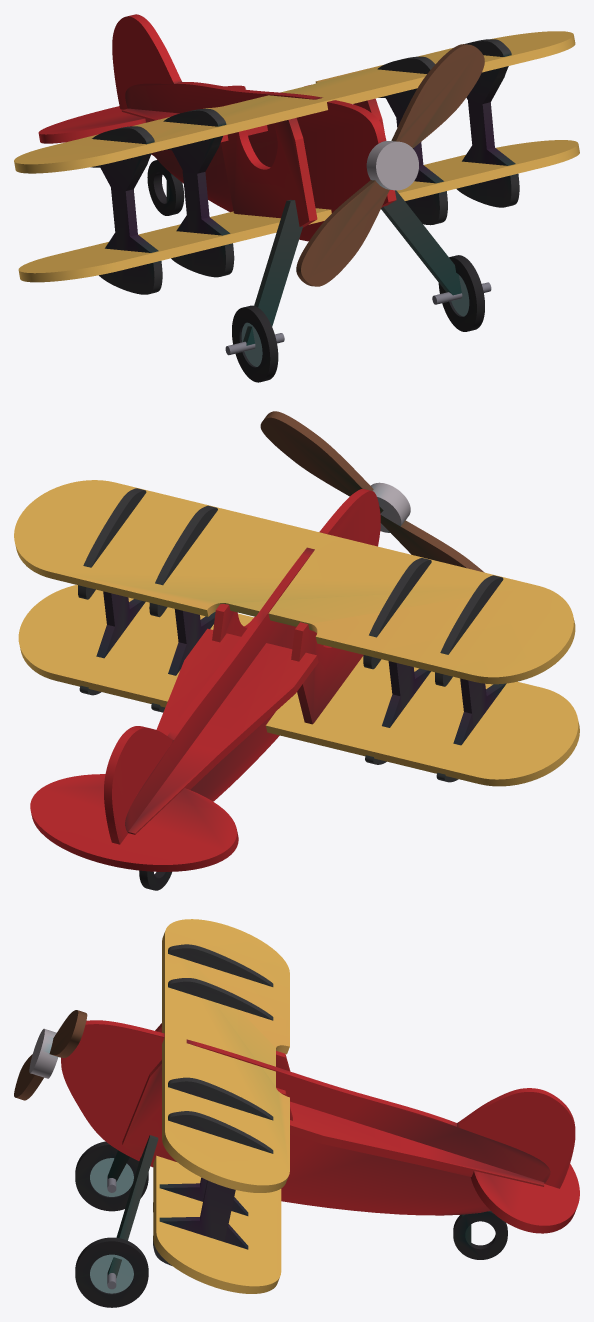
3 renders of one model, top to bottom at view 1: azimuth 30°, elevation 25°; view 2: azimuth 150°, elevation 25°; view 3: azimuth 270°, elevation 25°, orthographic. The views are drawn at different scales.
Parts seen in each view (by area): view 1: upper_panel, vertical_body, lower_panel, cockpit_side.001, interplane.003, interplane.002, blade.001, blade, interplane.001, tail_fin, gear_leg.001, interplane (+8 smaller); view 2: upper_panel, lower_panel, tailplane, horizontal_body, vertical_body, tail_fin, blade, cockpit_side.001, interplane.003, interplane.001, interplane.002, interplane (+3 smaller); view 3: vertical_body, upper_panel, lower_panel, tail_fin, horizontal_body, tailplane, interplane.001, tire, cockpit_side, interplane, tire.001, tail_wheel (+8 smaller).
Part boxes in pixels (x1=…): upper_panel: x1=14, y1=31, x2=575, y2=173; vertical_body: x1=125, y1=82, x2=386, y2=241; lower_panel: x1=18, y1=140, x2=579, y2=282; cockpit_side.001: x1=221, y1=104, x2=317, y2=227; interplane.003: x1=91, y1=126, x2=162, y2=294; interplane.002: x1=163, y1=108, x2=234, y2=277; blade.001: x1=296, y1=180, x2=389, y2=286; blade: x1=391, y1=44, x2=484, y2=148; interplane.001: x1=456, y1=39, x2=519, y2=207; tail_fin: x1=112, y1=14, x2=181, y2=155; gear_leg.001: x1=243, y1=199, x2=302, y2=345; interplane: x1=377, y1=56, x2=447, y2=225; upper_panel: x1=14, y1=480, x2=575, y2=684; lower_panel: x1=18, y1=585, x2=579, y2=786; tailplane: x1=30, y1=774, x2=238, y2=871; horizontal_body: x1=128, y1=628, x2=318, y2=834; vertical_body: x1=125, y1=489, x2=380, y2=832; tail_fin: x1=104, y1=726, x2=173, y2=844; blade: x1=260, y1=411, x2=383, y2=513; cockpit_side.001: x1=291, y1=622, x2=363, y2=724; interplane.003: x1=435, y1=575, x2=506, y2=782; interplane.001: x1=78, y1=488, x2=146, y2=695; interplane.002: x1=363, y1=558, x2=431, y2=764; interplane: x1=149, y1=505, x2=217, y2=712; vertical_body: x1=61, y1=1020, x2=550, y2=1215; upper_panel: x1=162, y1=919, x2=289, y2=1192; lower_panel: x1=153, y1=1155, x2=281, y2=1293; tail_fin: x1=457, y1=1088, x2=575, y2=1188; horizontal_body: x1=290, y1=1101, x2=544, y2=1186; tailplane: x1=470, y1=1164, x2=579, y2=1233; interplane.001: x1=153, y1=1111, x2=273, y2=1265; tire: x1=75, y1=1237, x2=148, y2=1307; cockpit_side: x1=122, y1=1060, x2=292, y2=1164; interplane: x1=153, y1=1077, x2=273, y2=1215; tire.001: x1=75, y1=1141, x2=148, y2=1211; tail_wheel: x1=453, y1=1211, x2=507, y2=1259.
Size of the model in its own units: 9 by 4.75 by 8.49.
